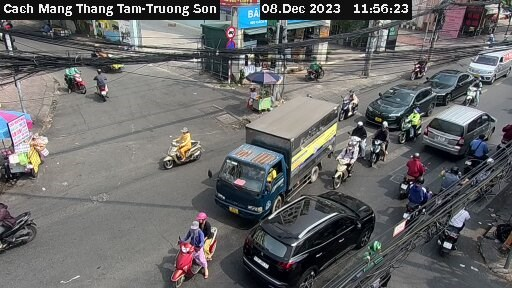car: (236, 189, 379, 276), (423, 101, 497, 151), (366, 78, 437, 125), (466, 41, 512, 82), (424, 67, 472, 103)
motorbike: (158, 215, 215, 277), (1, 195, 40, 259), (161, 132, 210, 178), (442, 200, 477, 247), (335, 142, 364, 179), (92, 70, 121, 103), (397, 111, 426, 143), (330, 89, 363, 116), (439, 162, 465, 196), (462, 77, 492, 106), (57, 59, 84, 90), (398, 159, 423, 189), (369, 132, 393, 162), (350, 122, 370, 153)
truck: (216, 98, 340, 215)
